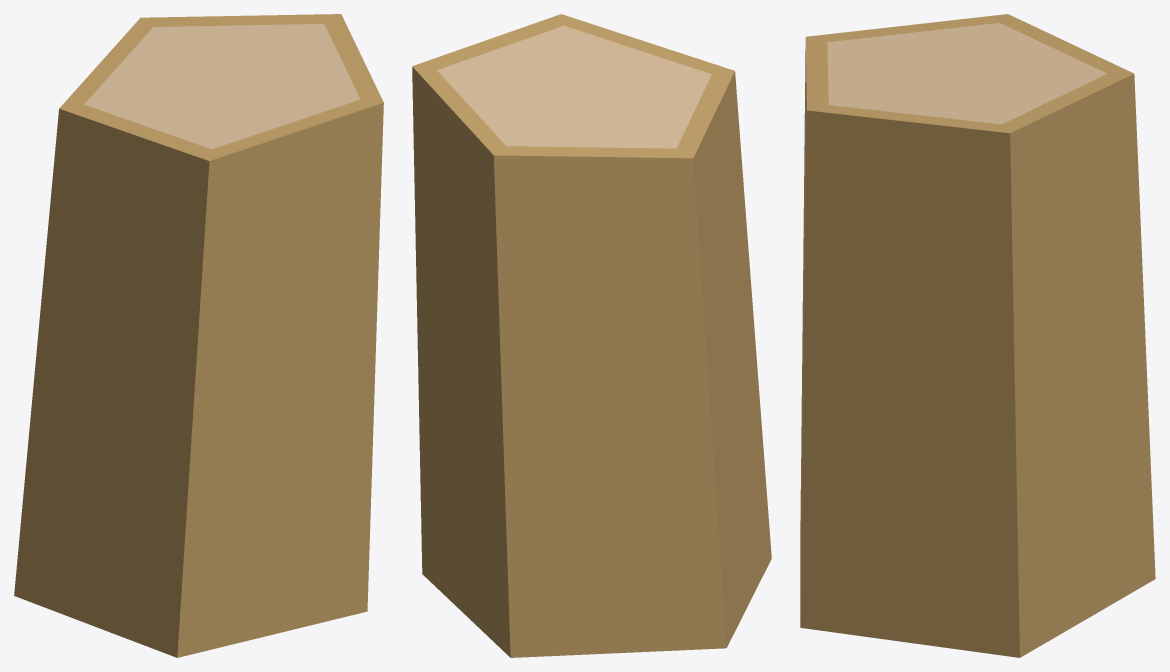
File: Simple_Stump_02_LOD.fbx
3 views of the same model, side by side, from view 1: azimuth 30°, elevation 25°; view 2: azimuth 150°, elevation 25°; view 3: azimuth 270°, elevation 25° (orthographic). The views are drawn at different scales.
Visible parts, largest first — view 1: Simple_Stump_02_LOD0; view 2: Simple_Stump_02_LOD0; view 3: Simple_Stump_02_LOD0.
Boxes of the visible parts, left/top/right/bottom form: Simple_Stump_02_LOD0: left=14, top=14, right=383, bottom=657; Simple_Stump_02_LOD0: left=412, top=14, right=771, bottom=657; Simple_Stump_02_LOD0: left=800, top=14, right=1155, bottom=657.
Size of what is drawn, in the model's own units: 59.82 by 89.74 by 54.27.
